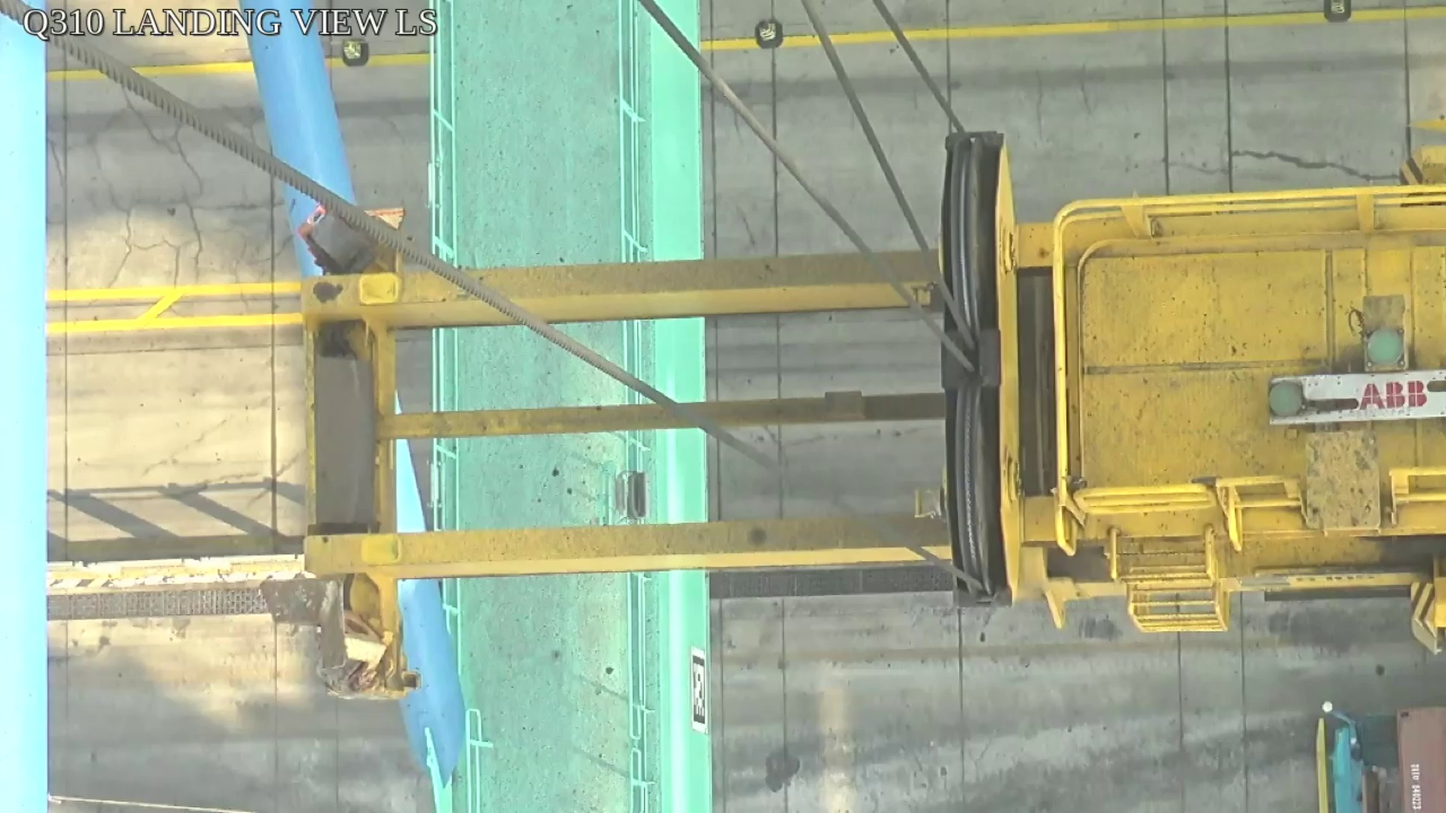aa: (938, 129, 1024, 608)
